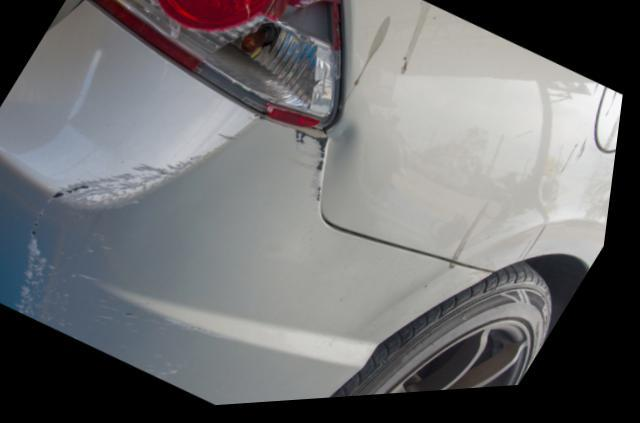lamp broken: (95, 0, 347, 132)
scratch: (19, 134, 246, 386), (293, 133, 333, 203)
